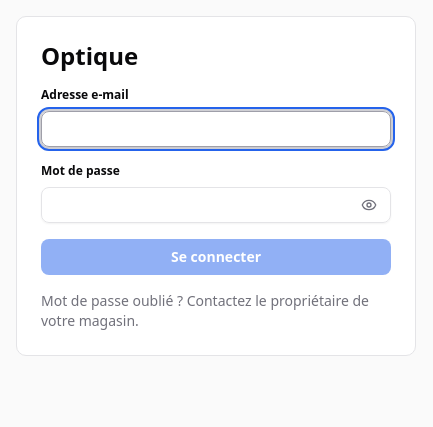
Test case: /connexion › un echec affiche exactement la phrase unique, vide le mot de passe et y ramene le focus
Type "karim.benali@optiqueanfa.ma" into the field labelled "Adresse e-mail" at (216, 129), box 41,111 -> 391,147
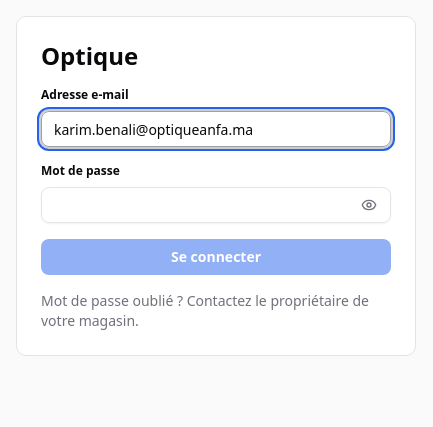
Type "mauvais" into the password field labelled "Mot de passe" at (216, 205), box 41,187 -> 391,223
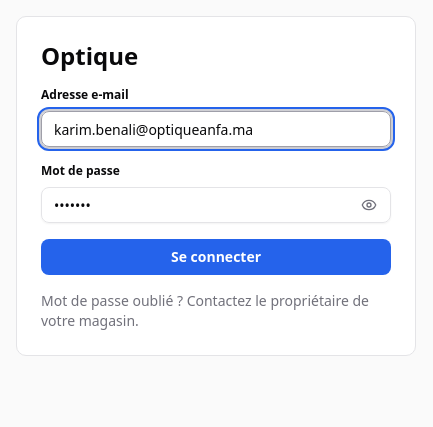
Click the button "Se connecter" at (216, 257), box 41,239 -> 391,275
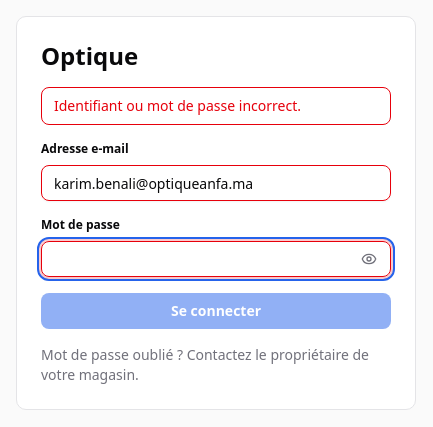
Expected: the message reads "Identifiant ou mot de passe incorrect.", 54,96 -> 301,115
Expected: the password field labelled "Mot de passe" is empty, 41,241 -> 391,277
